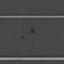dust: (30, 28, 35, 33), (20, 35, 24, 39)
